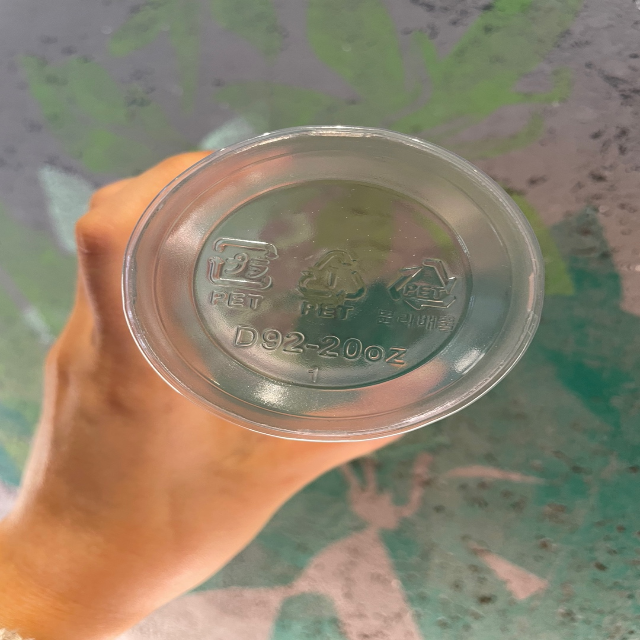pet: (376, 256, 460, 336), (294, 244, 370, 327), (206, 232, 278, 314)
